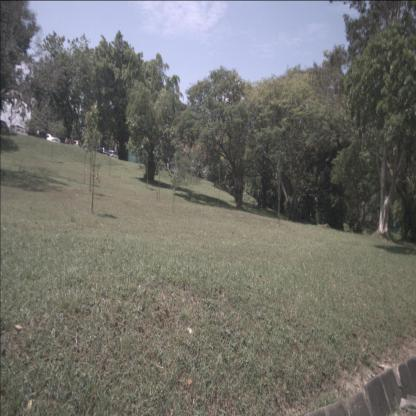vehicle-car: (23, 126, 47, 142), (3, 124, 28, 137), (36, 134, 61, 146), (53, 136, 72, 148), (92, 147, 110, 159), (100, 150, 118, 160), (63, 140, 82, 148), (0, 120, 9, 136)
